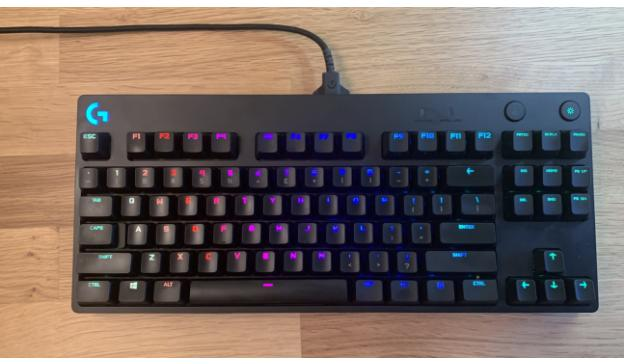keyboard: (72, 95, 596, 312)
